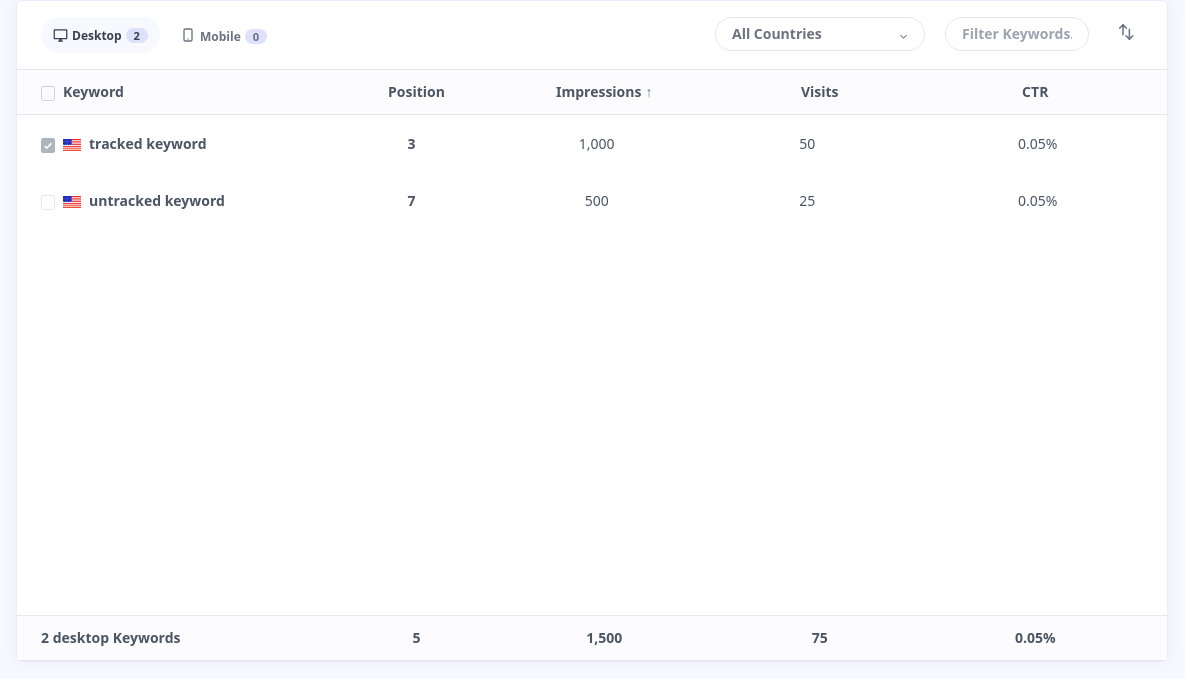
Test case: SCKeywordsTable › marks tracked Search Console keywords as disabled and prevents selection
Expected: the text "tracked keyword" is shown, x1=89 y1=134 x2=206 y2=152
Expected: the button named "Keyword already tracked" is disabled, x1=41 y1=138 x2=55 y2=152
# Test that clicking the untracked keyword works
Click the button named "Select keyword" at (48, 202), box x1=41 y1=194 x2=55 y2=210
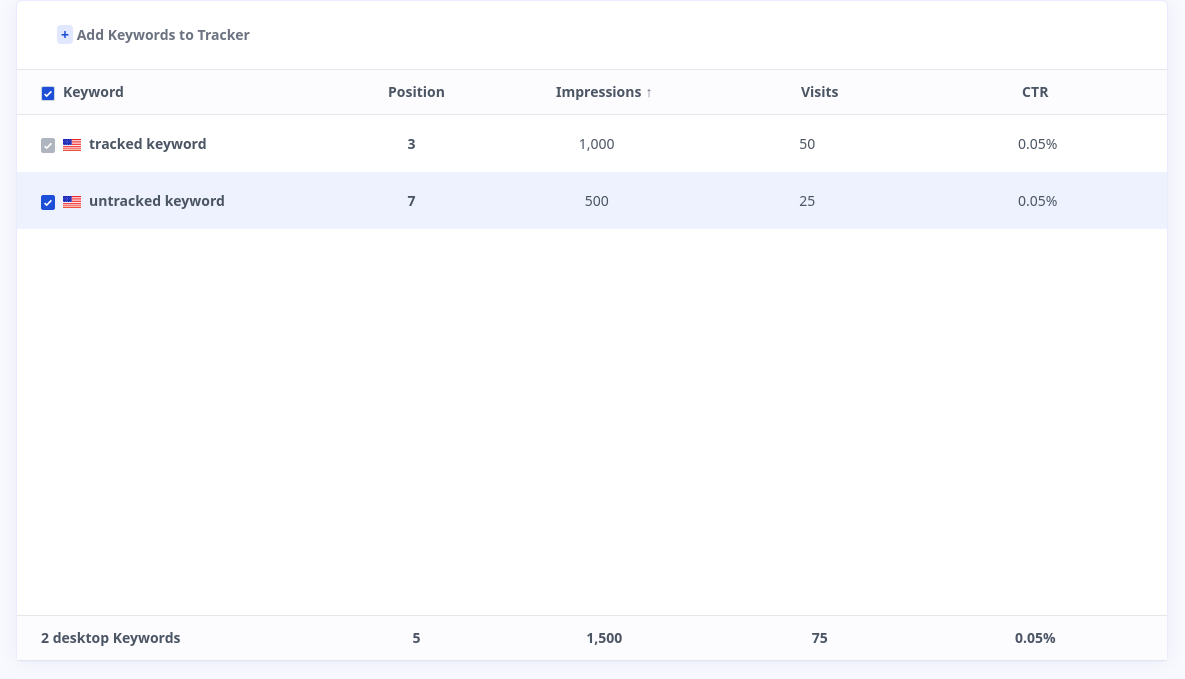
Now the link "+ Add Keywords to Tracker" is shown, box x1=57 y1=25 x2=250 y2=44
